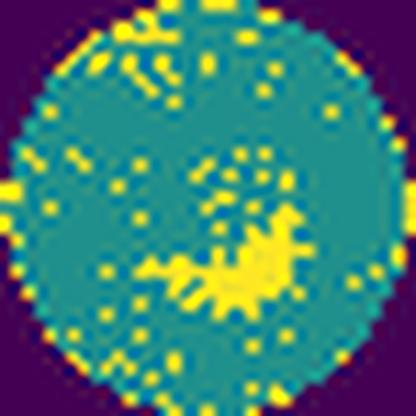Loc: (136, 202, 317, 322)
